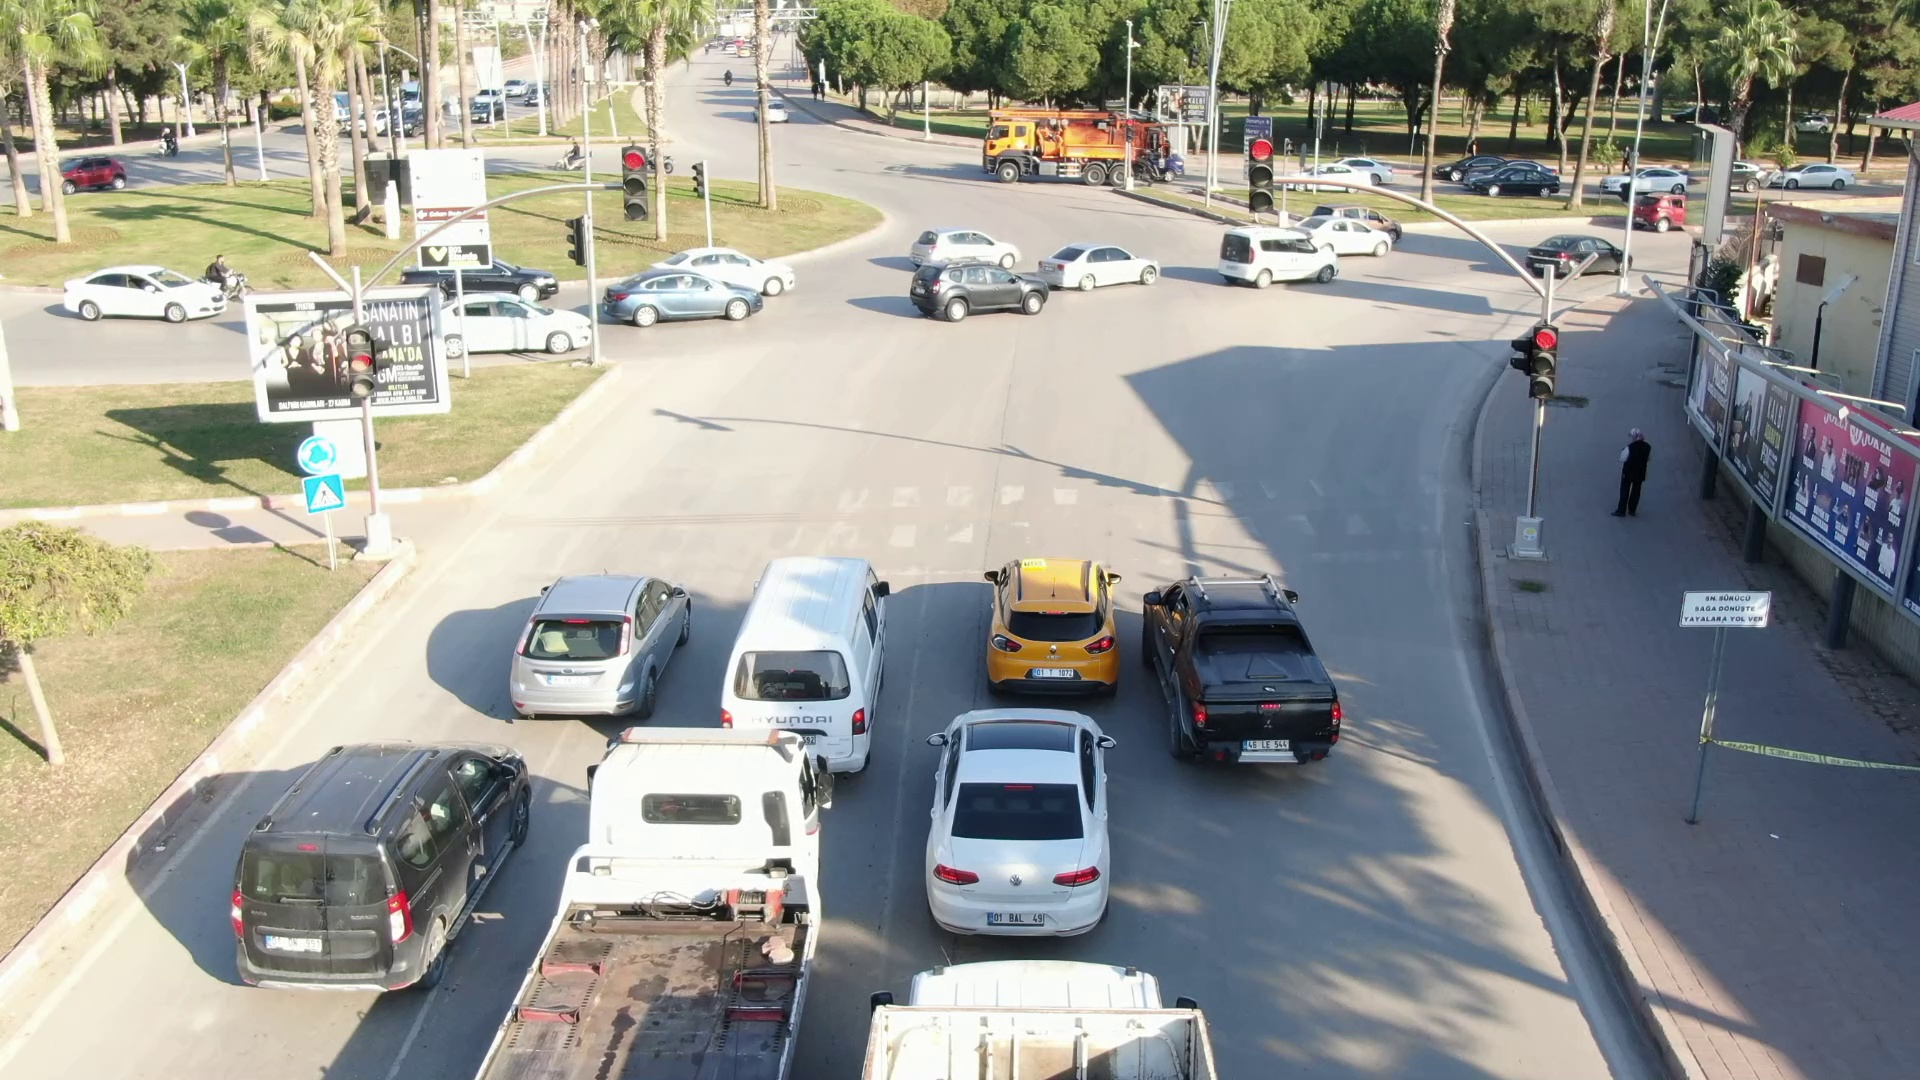car: (222, 729, 541, 1000), (1135, 568, 1356, 774), (927, 704, 1113, 942), (502, 567, 698, 727), (977, 553, 1126, 698), (440, 287, 597, 360), (61, 258, 229, 323), (600, 269, 767, 331), (909, 256, 1048, 328), (1216, 223, 1342, 291), (1038, 240, 1162, 299), (1526, 232, 1638, 282), (1472, 164, 1573, 200), (1596, 165, 1691, 199)
